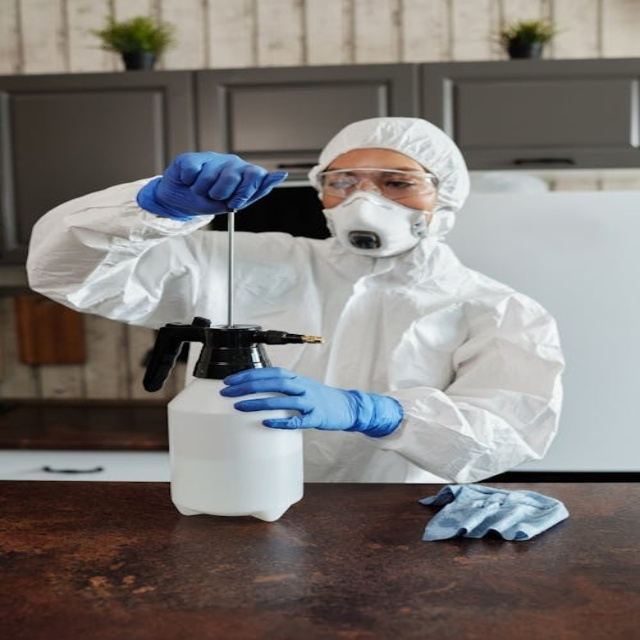Gafas: (317, 168, 440, 200)
Guantes: (220, 361, 403, 446), (140, 149, 289, 223)
Mascara: (321, 187, 436, 257)
